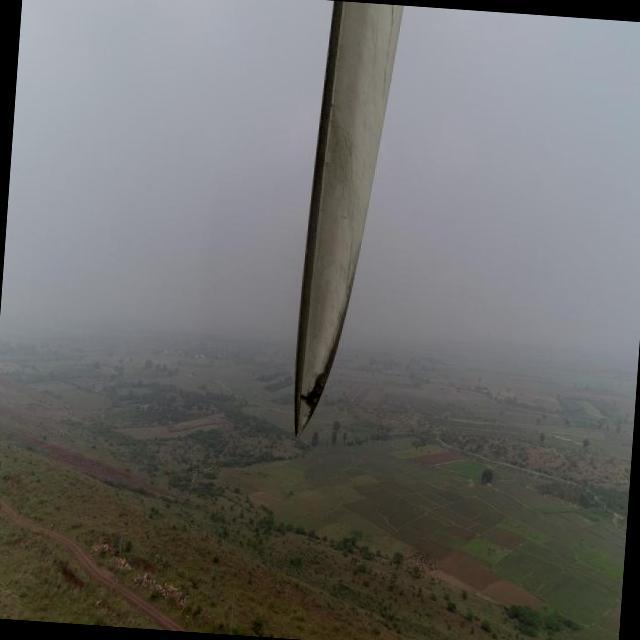Dirt: (295, 1, 402, 439)
Oil LEAKAGE: (305, 296, 348, 432)
Pin Hole: (297, 391, 310, 406)
